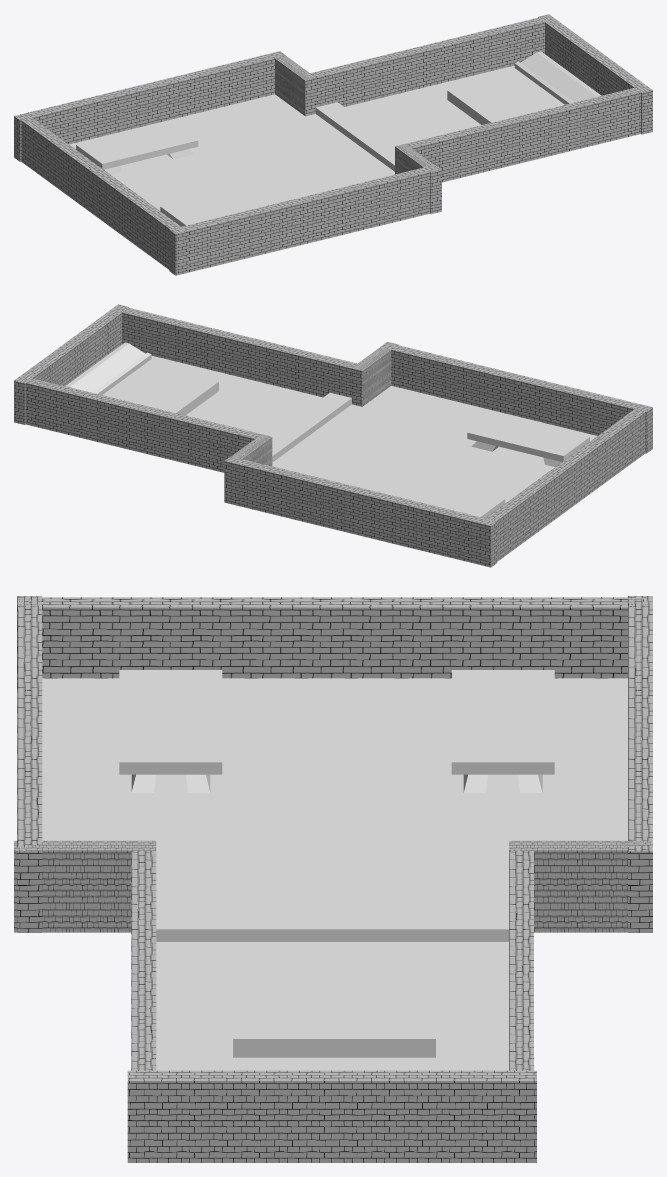
File: level.glb
The picture shows the model from 3 angles, top to bottom: view 1: azimuth 30°, elevation 25°; view 2: azimuth 150°, elevation 25°; view 3: azimuth 270°, elevation 25°; orthographic projection. The views are drawn at different scales.
Parts seen in each view (by area): view 1: Floor.001, Wall.003, Wall, Wall.002, Wall.001, Wall.006, Floor, Wall.007, Table.001, Table, Foods, Divider (+3 smaller); view 2: Floor.001, Wall.002, Wall.001, Wall.003, Wall, Wall.006, Floor, Wall.007, Table, Table.001, Foods, Divider (+3 smaller); view 3: Floor.001, Wall.006, Wall.007, Floor, Divider, Table, Table.001, Appliances, Wall.005, Wall.004, Wall.003, Wall.002 (+2 smaller).
Part boxes in pixels (box(x1,y1,x2,y2)): Floor.001: box(69, 94, 394, 210); Wall.003: box(169, 165, 441, 275); Wall: box(406, 88, 640, 182); Wall.002: box(14, 51, 285, 161); Wall.001: box(310, 17, 544, 107); Wall.006: box(17, 114, 187, 275); Floor: box(344, 65, 564, 145); Wall.007: box(538, 14, 652, 134); Table.001: box(76, 121, 198, 174); Table: box(160, 183, 281, 226); Foods: box(514, 51, 601, 104); Divider: box(315, 102, 396, 171); Floor.001: box(272, 385, 597, 503); Wall.002: box(224, 456, 497, 567); Wall.001: box(25, 378, 260, 472); Wall.003: box(380, 342, 652, 453); Wall: box(122, 308, 357, 397); Wall.006: box(481, 404, 646, 561); Floor: box(102, 355, 322, 436); Wall.007: box(14, 304, 129, 424); Table: box(467, 413, 589, 466); Table.001: box(384, 475, 505, 518); Foods: box(65, 342, 151, 394); Divider: box(271, 392, 351, 462); Floor.001: box(42, 678, 627, 908); Wall.006: box(17, 597, 647, 688); Wall.007: box(127, 1070, 536, 1162); Floor: box(156, 942, 508, 1070); Divider: box(156, 908, 508, 941); Table: box(119, 670, 222, 792); Table.001: box(451, 670, 554, 792); Appliances: box(233, 1011, 435, 1057); Wall.005: box(509, 840, 651, 932); Wall.004: box(14, 840, 156, 932); Wall.003: box(17, 596, 42, 932); Wall.002: box(628, 596, 652, 932).
Size of the model in its own units: 92.22 by 7.25 by 51.35.
2 materials, 2 textured.
